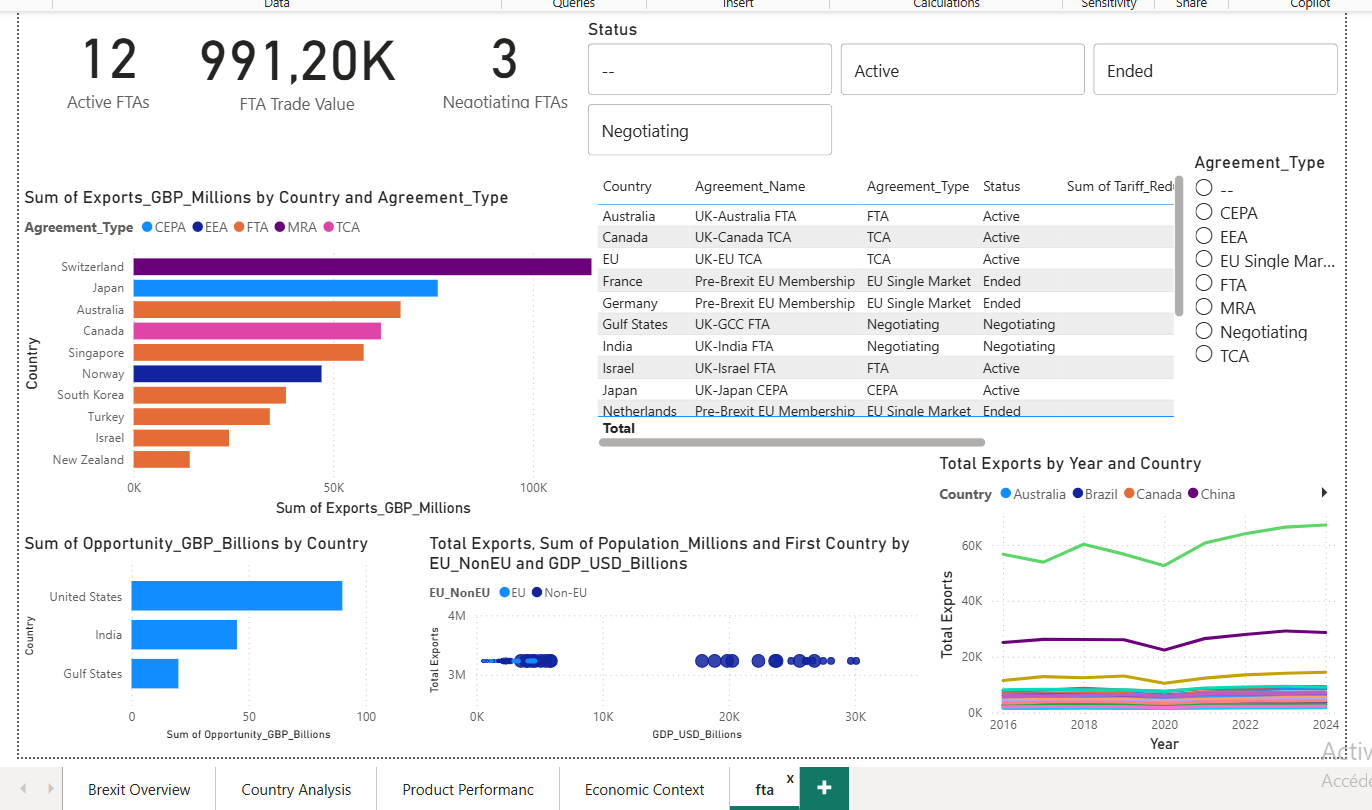

The dashboard page shown, as its layout file describes it:
{"tool":"powerbi","page":{"name":"fta","canvas":[1280,720],"ordinal":4},"visuals":[{"type":"card","fields":{"Values":["richlist dataset5_uk_trade_agreements.Active FTAs"]},"box":[9.7,0,153.2,98.9],"z":0},{"type":"card","fields":{"Values":["richlist dataset5_uk_trade_agreements.FTA Trade Value"]},"box":[179.8,0,211.1,102.5],"z":1000},{"type":"card","fields":{"Values":["richlist dataset5_uk_trade_agreements.Negotiating FTAs"]},"box":[410.2,0,190.6,98.9],"z":2000},{"type":"barChart","fields":{"Category":["richlist dataset5_uk_trade_agreements.Country"],"Series":["richlist dataset5_uk_trade_agreements.Agreement_Type"],"Y":["Sum(richlist table1_trade_by_country.Exports_GBP_Millions)"]},"box":[9.7,112.2,585.1,323.3],"z":3000},{"type":"tableEx","fields":{"Values":["richlist dataset5_uk_trade_agreements.Country","richlist dataset5_uk_trade_agreements.Agreement_Name","richlist dataset5_uk_trade_agreements.Agreement_Type","richlist dataset5_uk_trade_agreements.Status","Sum(richlist dataset5_uk_trade_agreements.Tariff_Reduction_Pct)","Sum(richlist dataset5_uk_trade_agreements.Trade_Value_GBP_Millions)"]},"box":[552.5,153.2,565.8,263],"z":4000},{"type":"scatterChart","fields":{"X":["richlist dataset6_trading_partner_gdp.GDP_USD_Billions"],"Series":["richlist dataset6_trading_partner_gdp.EU_NonEU"],"Y":["richlist table1_trade_by_country.Total Exports"],"Size":["Sum(richlist dataset6_trading_partner_gdp.Population_Millions)"]},"box":[410.2,464.5,472.9,255.8],"z":5000},{"type":"barChart","fields":{"Y":["Sum(Pending_FTAs.Opportunity_GBP_Billions)"],"Category":["Pending_FTAs.Country"]},"box":[0,464.5,410.2,255.8],"z":6000},{"type":"lineChart","fields":{"Category":["richlist table1_trade_by_country.Year"],"Series":["richlist table1_trade_by_country.Country"],"Y":["richlist table1_trade_by_country.Total Exports"]},"box":[883.1,464.5,396.9,255.8],"z":7000},{"type":"advancedSlicerVisual","fields":{"Values":["richlist dataset5_uk_trade_agreements.Status"]},"box":[612.9,7.2,667.2,133.9],"z":8000},{"type":"listSlicer","fields":{"Values":["richlist dataset5_uk_trade_agreements.Agreement_Type"]},"box":[1129.2,153.2,150.8,263],"z":9000}]}

Visuals, with their boxes on the page's 1280x720 design canvas (x1, y1, x2, y2). These are canvas units, not pixel positions in the 1372x810 screenshot, which may show the page scaled, cropped or inside an application window:
card - richlist dataset5_uk_trade_agreements.Active FTAs: region(10, 0, 163, 99)
card - richlist dataset5_uk_trade_agreements.FTA Trade Value: region(180, 0, 391, 102)
card - richlist dataset5_uk_trade_agreements.Negotiating FTAs: region(410, 0, 601, 99)
barChart - richlist dataset5_uk_trade_agreements.Country x richlist dataset5_uk_trade_agreements.Agreement_Type: region(10, 112, 595, 436)
tableEx - richlist dataset5_uk_trade_agreements.Country x richlist dataset5_uk_trade_agreements.Agreement_Name: region(552, 153, 1118, 416)
scatterChart - richlist dataset6_trading_partner_gdp.GDP_USD_Billions x richlist dataset6_trading_partner_gdp.EU_NonEU: region(410, 464, 883, 720)
barChart - Sum(Pending_FTAs.Opportunity_GBP_Billions) x Pending_FTAs.Country: region(0, 464, 410, 720)
lineChart - richlist table1_trade_by_country.Year x richlist table1_trade_by_country.Country: region(883, 464, 1280, 720)
advancedSlicerVisual - richlist dataset5_uk_trade_agreements.Status: region(613, 7, 1280, 141)
listSlicer - richlist dataset5_uk_trade_agreements.Agreement_Type: region(1129, 153, 1280, 416)
